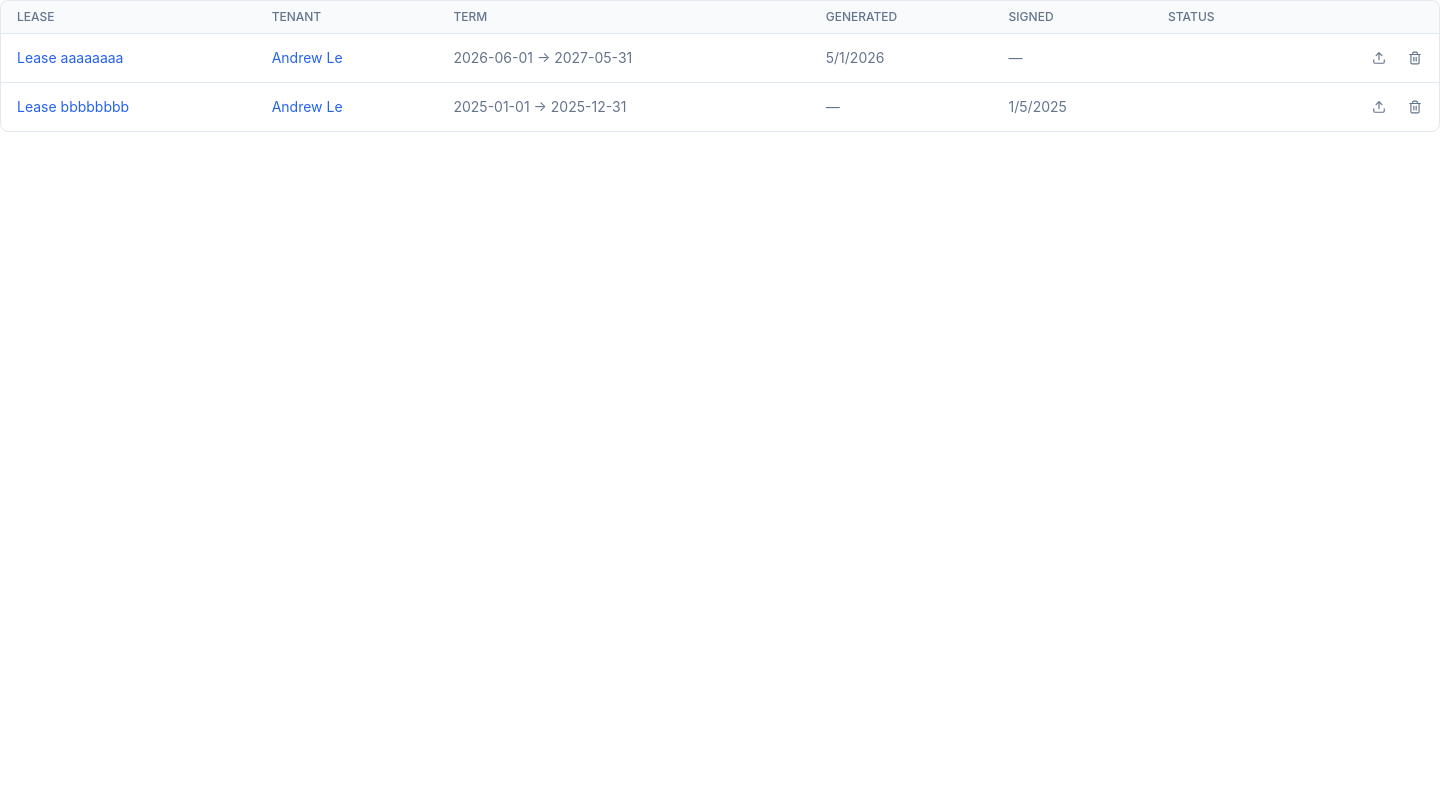
Scenario: LeasesListBody — upload affordance › closes the upload modal when the close button is clicked
The width and height of the screenshot is (1440, 810).
Click the button named "Upload documents for lease aaaaaaaa".
click(1379, 58)  # box [1363, 42, 1395, 74]
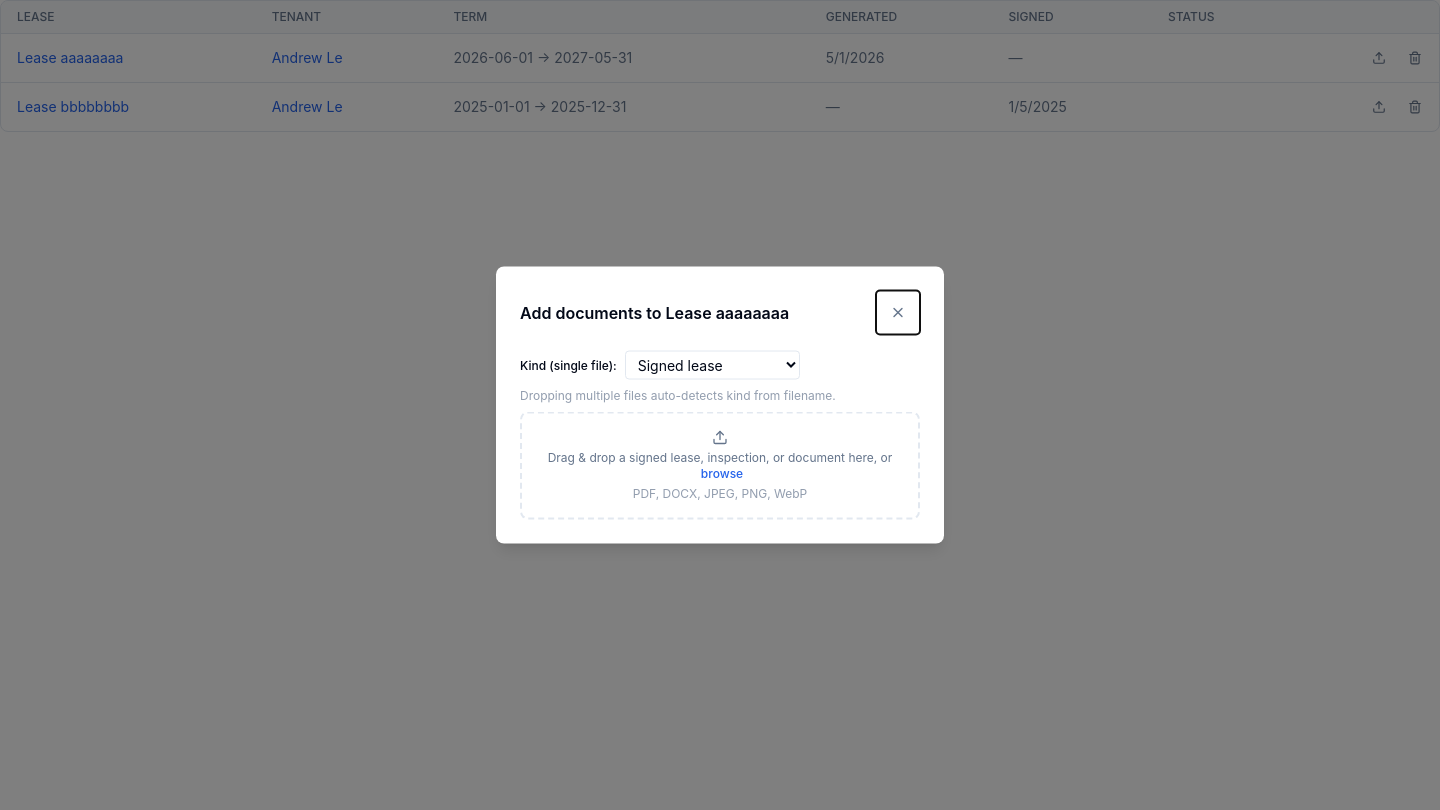
Result: the dialog with test id "lease-quick-upload-modal" is shown at [496, 266, 944, 544]
Click the button named "close".
click(898, 312)  # box [876, 290, 920, 334]
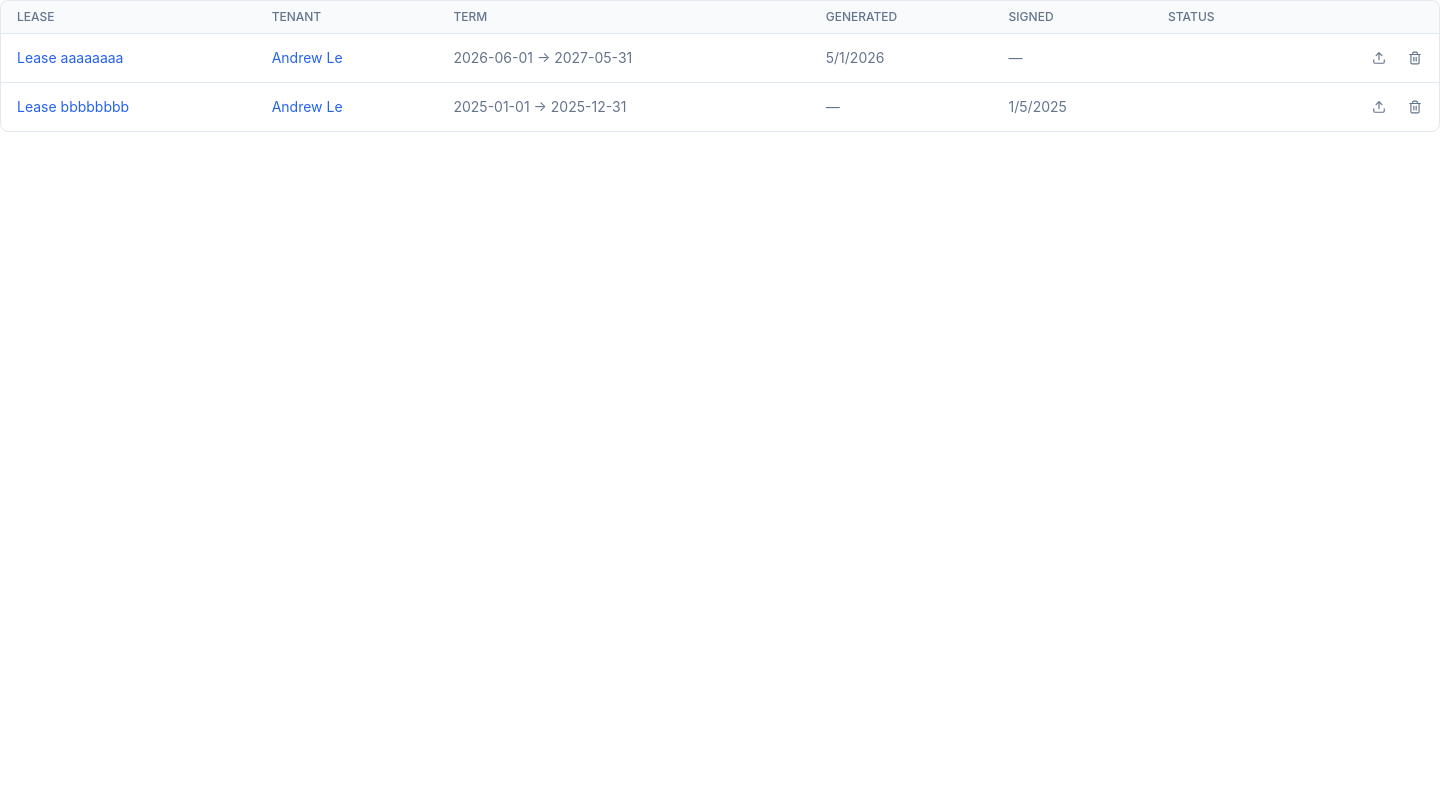
Result: the dialog with test id "lease-quick-upload-modal" is gone
